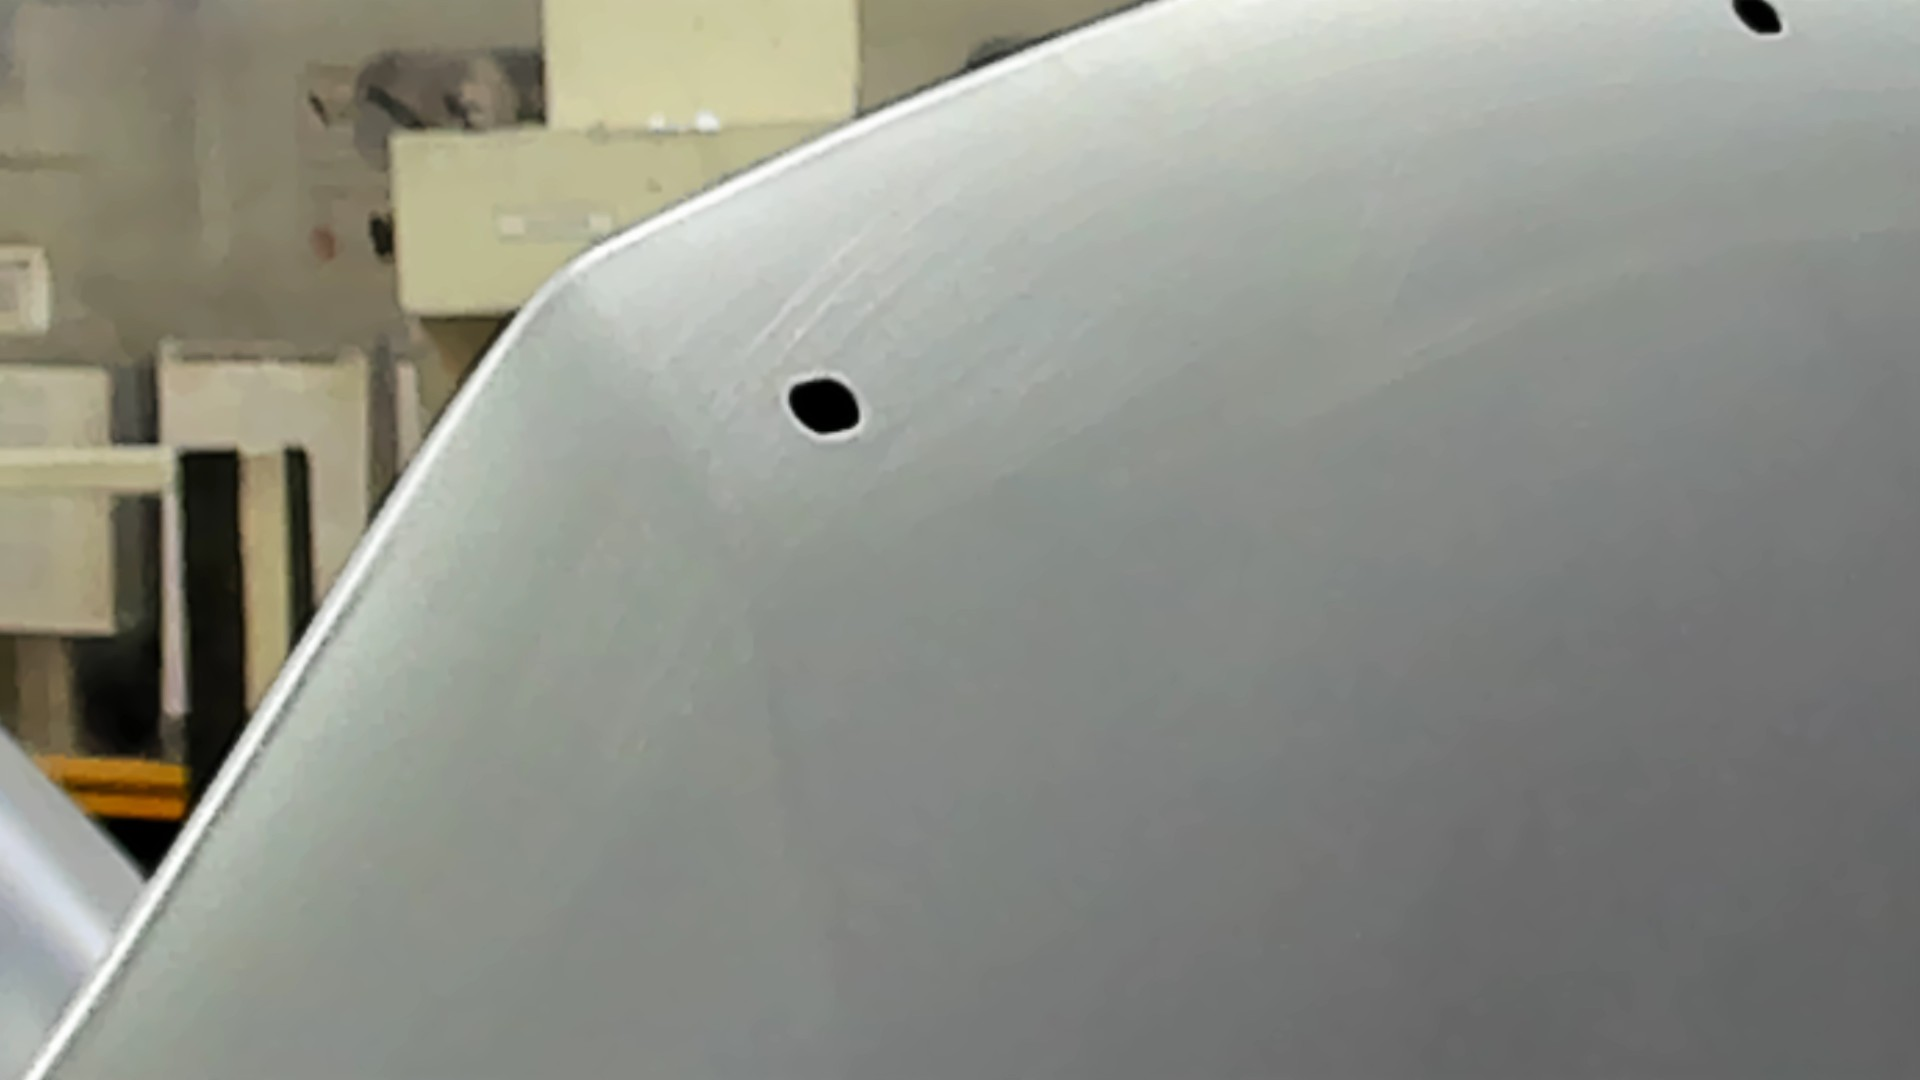amorfo: (782, 371, 869, 444), (1725, 1, 1791, 41)
